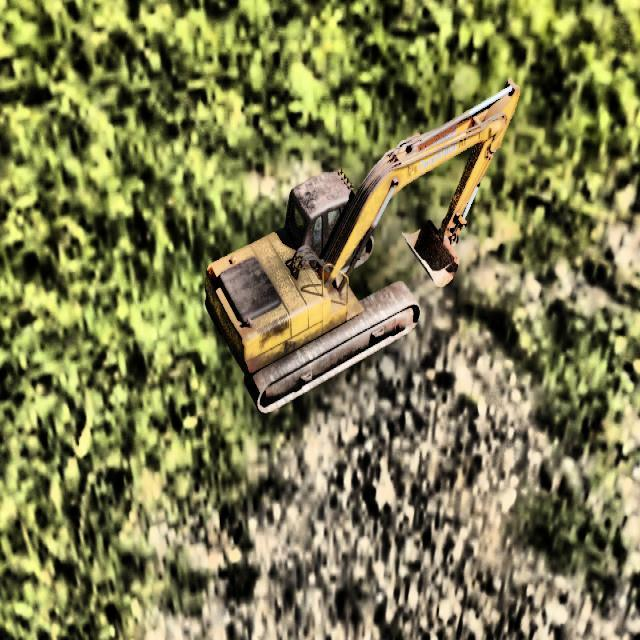excavator: (205, 78, 520, 414)
